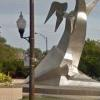Statue: (47, 2, 100, 78)
